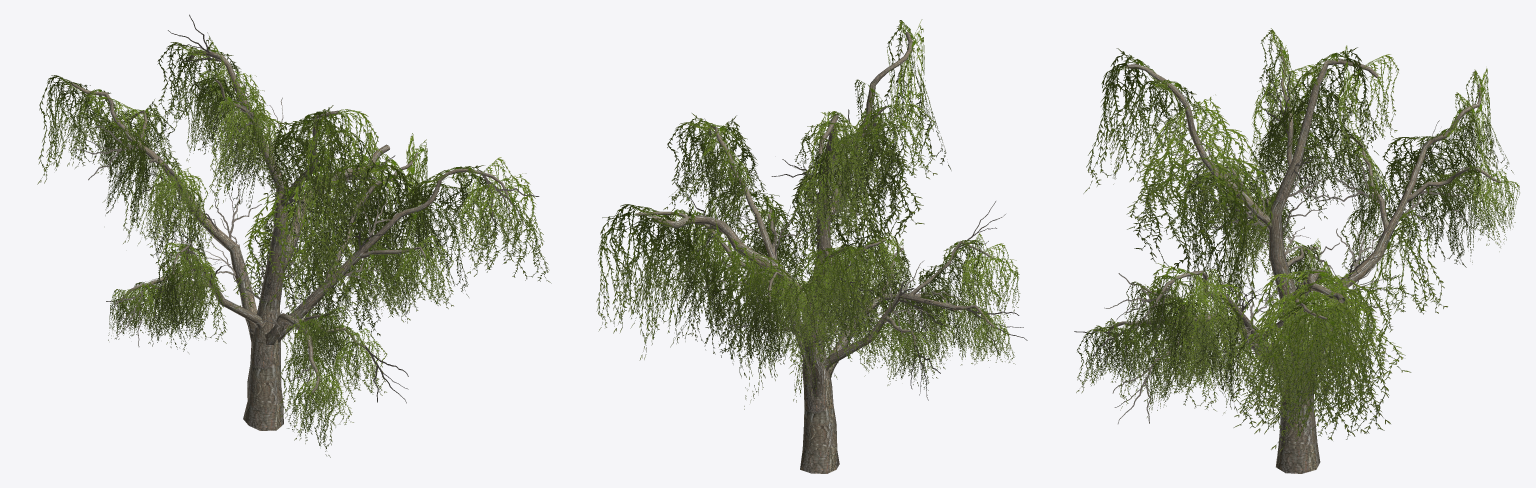
3 views of the same model, side by side, from view 1: azimuth 30°, elevation 25°; view 2: azimuth 150°, elevation 25°; view 3: azimuth 270°, elevation 25° (orthographic). The views are drawn at different scales.
Parts seen in each view (by area): view 1: Weeping_willow_06_Branches_By_leaf_Sum_Mat_0, Weeping_willow_06_Weeping_Willow_Bark_Mat_0, Weeping_willow_06_Weeping_Willow_Branches_Mat_0; view 2: Weeping_willow_06_Branches_By_leaf_Sum_Mat_0, Weeping_willow_06_Weeping_Willow_Bark_Mat_0, Weeping_willow_06_Weeping_Willow_Branches_Mat_0; view 3: Weeping_willow_06_Branches_By_leaf_Sum_Mat_0, Weeping_willow_06_Weeping_Willow_Bark_Mat_0, Weeping_willow_06_Weeping_Willow_Branches_Mat_0.
Part boxes in pixels (x1,y1,x2,y2): Weeping_willow_06_Branches_By_leaf_Sum_Mat_0: (37, 32, 551, 457); Weeping_willow_06_Weeping_Willow_Bark_Mat_0: (70, 51, 508, 430); Weeping_willow_06_Weeping_Willow_Branches_Mat_0: (72, 14, 539, 403); Weeping_willow_06_Branches_By_leaf_Sum_Mat_0: (596, 19, 1020, 409); Weeping_willow_06_Weeping_Willow_Bark_Mat_0: (636, 32, 994, 473); Weeping_willow_06_Weeping_Willow_Branches_Mat_0: (686, 109, 1027, 400); Weeping_willow_06_Branches_By_leaf_Sum_Mat_0: (1076, 28, 1519, 452); Weeping_willow_06_Weeping_Willow_Bark_Mat_0: (1108, 47, 1500, 473); Weeping_willow_06_Weeping_Willow_Branches_Mat_0: (1074, 69, 1486, 423).
Size of the model in its own units: 13.7 by 13 by 12.82.
3 materials, 3 textured.
